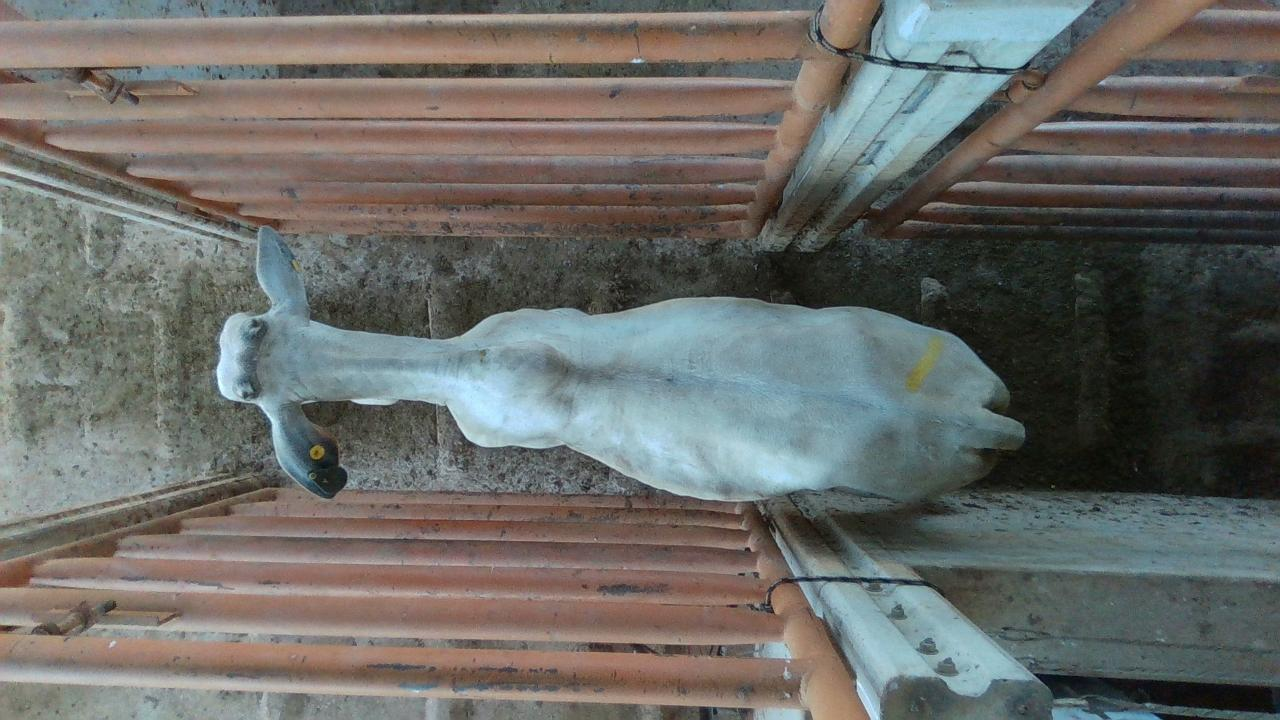cattle: (214, 223, 1026, 506)
